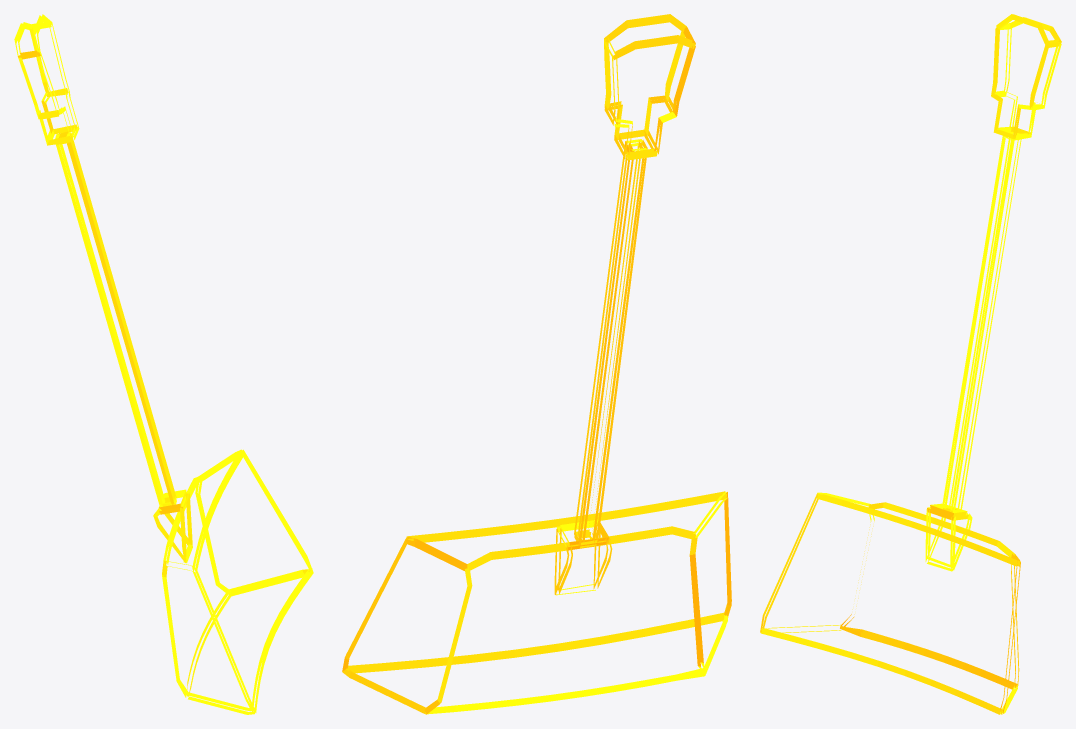
The model's file is boxOutline.fbx.
3 renders of one model, left to right at view 1: azimuth 30°, elevation 25°; view 2: azimuth 150°, elevation 25°; view 3: azimuth 270°, elevation 25°, orthographic. The views are drawn at different scales.
Parts seen in each view (by area): view 1: Shovel.001; view 2: Shovel.001; view 3: Shovel.001.
Part boxes in pixels (x1,y1,x2,y2): Shovel.001: (14,14,313,714); Shovel.001: (342,14,731,714); Shovel.001: (760,14,1061,714).
Size of the model in its own units: 432 by 879 by 409.
